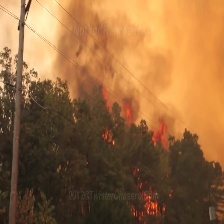fire: (128, 166, 167, 223), (151, 120, 169, 147)
